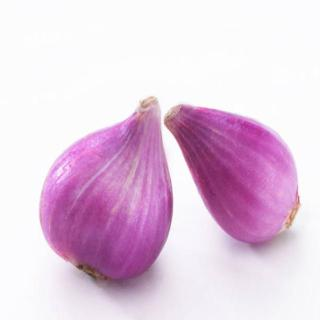Bawang Merah: (38, 95, 176, 286), (163, 100, 304, 247)
